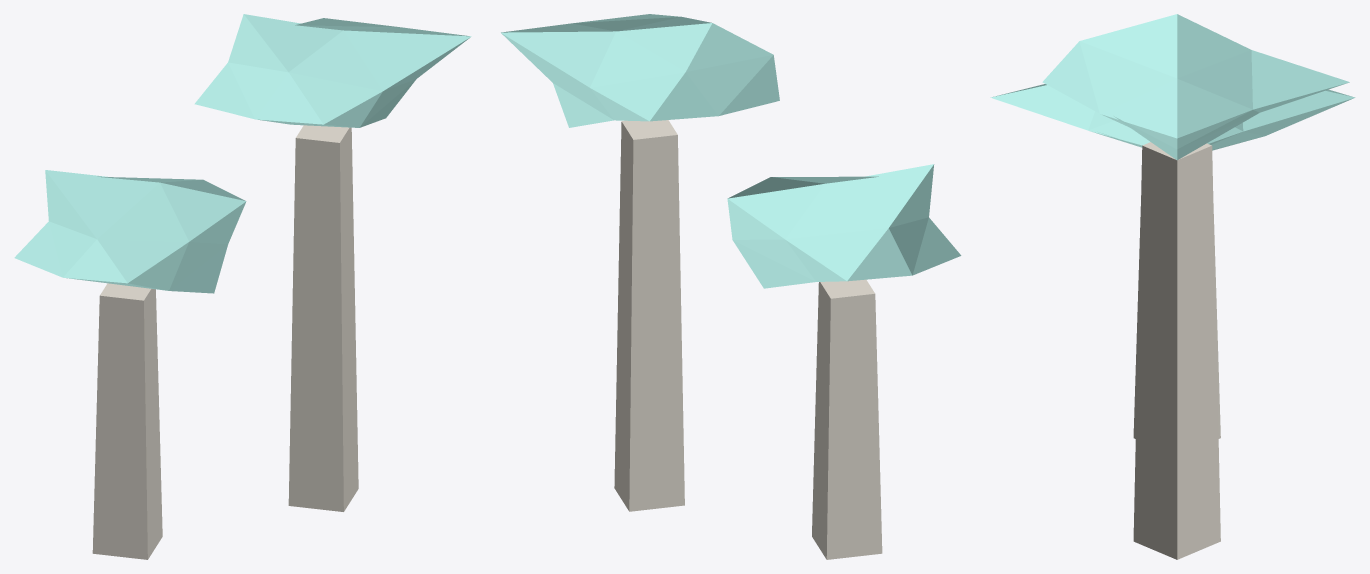
The model's file is glowcap_v33.glb.
3 views of the same model, side by side, from view 1: azimuth 30°, elevation 25°; view 2: azimuth 150°, elevation 25°; view 3: azimuth 270°, elevation 25° (orthographic). The views are drawn at different scales.
Parts seen in each view (by area): view 1: lod0; view 2: lod0; view 3: lod0.
Part boxes in pixels (<box>): lod0: <box>14,14,471,559</box>; lod0: <box>501,14,961,559</box>; lod0: <box>991,14,1355,559</box>.
Size of what is drawn, in the model's own units: 0.327 by 0.3273 by 0.2091.
